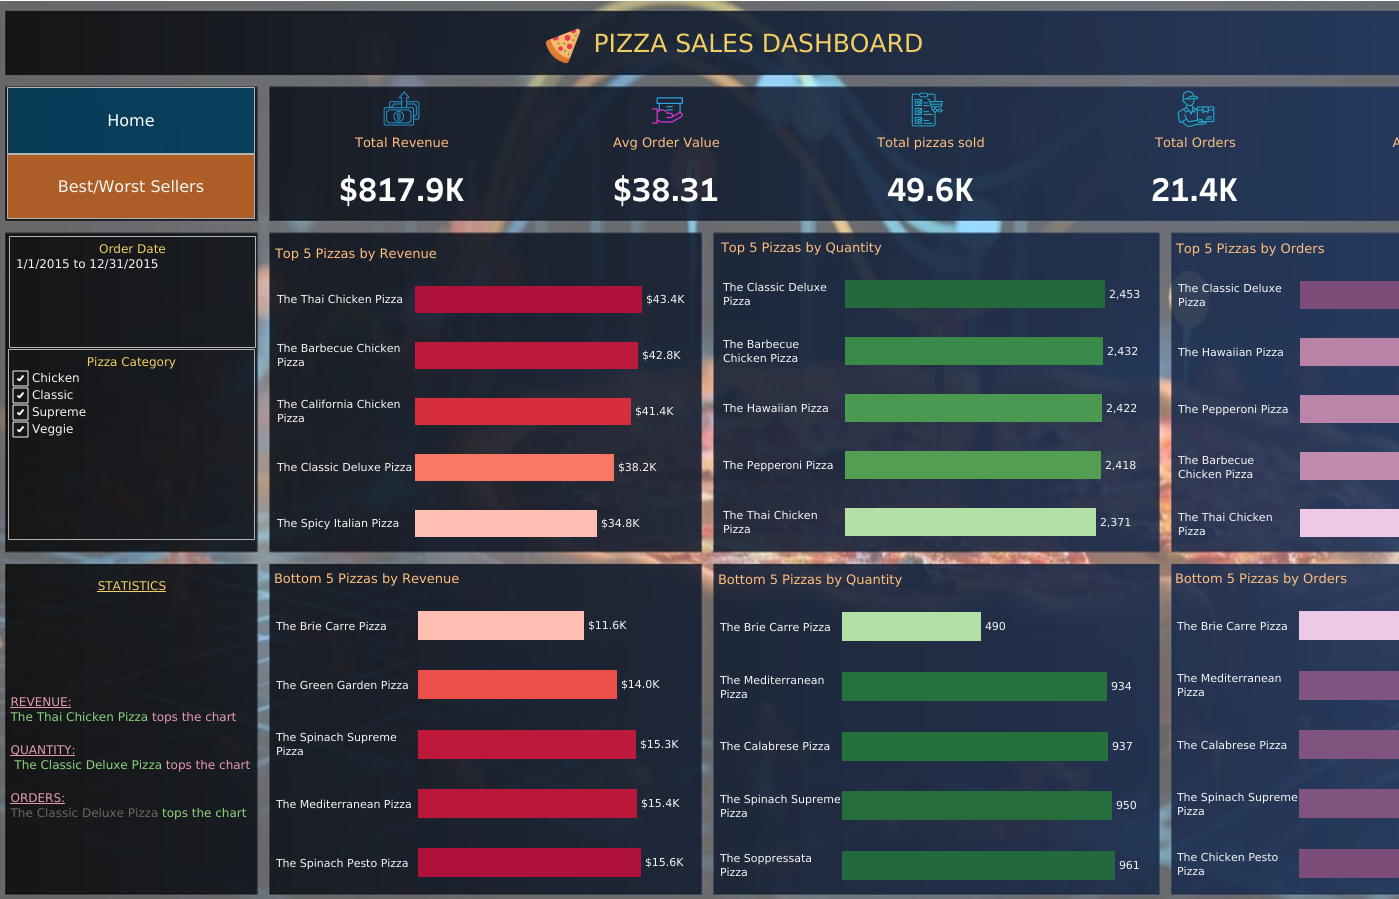

The dashboard page shown, as its layout file describes it:
{"tool":"tableau","page":{"name":"Best/worst Sellers","canvas":[1400,900],"ordinal":0},"visuals":[{"type":"image","box":[8,8,1384,884]},{"type":"text","box":[591,10,577,65]},{"type":"image","param":"C:/Users/thahi/OneDrive/文件/Job/Data Analysis/Project/MySQL/Pizza Sales/pizza-sli","box":[541,28,45,36]},{"type":"dashboard-object","box":[7,87,248,67]},{"type":"image","param":"C:/Users/thahi/OneDrive/文件/Job/Data Analysis/Project/MySQL/Pizza Sales/profit-gr","box":[376,88,51,41]},{"type":"image","param":"C:/Users/thahi/OneDrive/文件/Job/Data Analysis/Project/MySQL/Pizza Sales/delivery-","box":[1172,90,48,38]},{"type":"image","param":"C:/Users/thahi/OneDrive/文件/Job/Data Analysis/Project/MySQL/Pizza Sales/order-del","box":[896,92,63,35]},{"type":"image","param":"C:/Users/thahi/OneDrive/文件/Job/Data Analysis/Project/MySQL/Pizza Sales/shipping-","box":[607,93,122,35]},{"type":"dashboard-object","box":[7,154,248,65]},{"type":"worksheet","title":"Top 5 Pizza by Quantity","mark":"Automatic","rows":["pizza_name"],"cols":["Calculation_745627221086244867"],"box":[717,233,441,317]},{"type":"filter","title":"KPI","param":"[federated.1h1rbqj0vtmr0712ajtg21c8uyir].[none:order_date:qk]","box":[9,236,247,112]},{"type":"worksheet","title":"Top 5 Pizza by Revenue","mark":"Automatic","rows":["pizza_name"],"cols":["Calculation_745627221077561344"],"box":[271,239,430,312]},{"type":"filter","title":"KPI","param":"[federated.1h1rbqj0vtmr0712ajtg21c8uyir].[none:pizza_category:nk]","box":[8,349,247,191]},{"type":"worksheet","title":"Bottom 5 Pizza by Revenue","mark":"Automatic","rows":["pizza_name"],"cols":["Calculation_745627221077561344"],"box":[270,564,430,328]},{"type":"worksheet","title":"Bottom 5 Pizza by Quantity","mark":"Automatic","rows":["pizza_name"],"cols":["Calculation_745627221086244867"],"box":[714,565,444,330]},{"type":"text","box":[7,566,250,38]},{"type":"text","box":[8,624,246,265]}]}

Visuals, with their boxes in screenshot pixels (x1, y1, x2, y2), scaled from the page's 1400x900 canvas onto the 1399x899 screenshot:
image: <bbox>8, 8, 1391, 891</bbox>
text: <bbox>591, 10, 1167, 75</bbox>
image: <bbox>541, 28, 586, 64</bbox>
dashboard-object: <bbox>7, 87, 255, 154</bbox>
image: <bbox>376, 88, 427, 129</bbox>
image: <bbox>1171, 90, 1219, 128</bbox>
image: <bbox>895, 92, 958, 127</bbox>
image: <bbox>607, 93, 728, 128</bbox>
dashboard-object: <bbox>7, 154, 255, 219</bbox>
"Top 5 Pizza by Quantity" worksheet: <bbox>716, 233, 1157, 549</bbox>
"KPI" filter: <bbox>9, 236, 256, 348</bbox>
"Top 5 Pizza by Revenue" worksheet: <bbox>271, 239, 700, 550</bbox>
"KPI" filter: <bbox>8, 349, 255, 539</bbox>
"Bottom 5 Pizza by Revenue" worksheet: <bbox>270, 563, 700, 891</bbox>
"Bottom 5 Pizza by Quantity" worksheet: <bbox>713, 564, 1157, 894</bbox>
text: <bbox>7, 565, 257, 603</bbox>
text: <bbox>8, 623, 254, 888</bbox>
